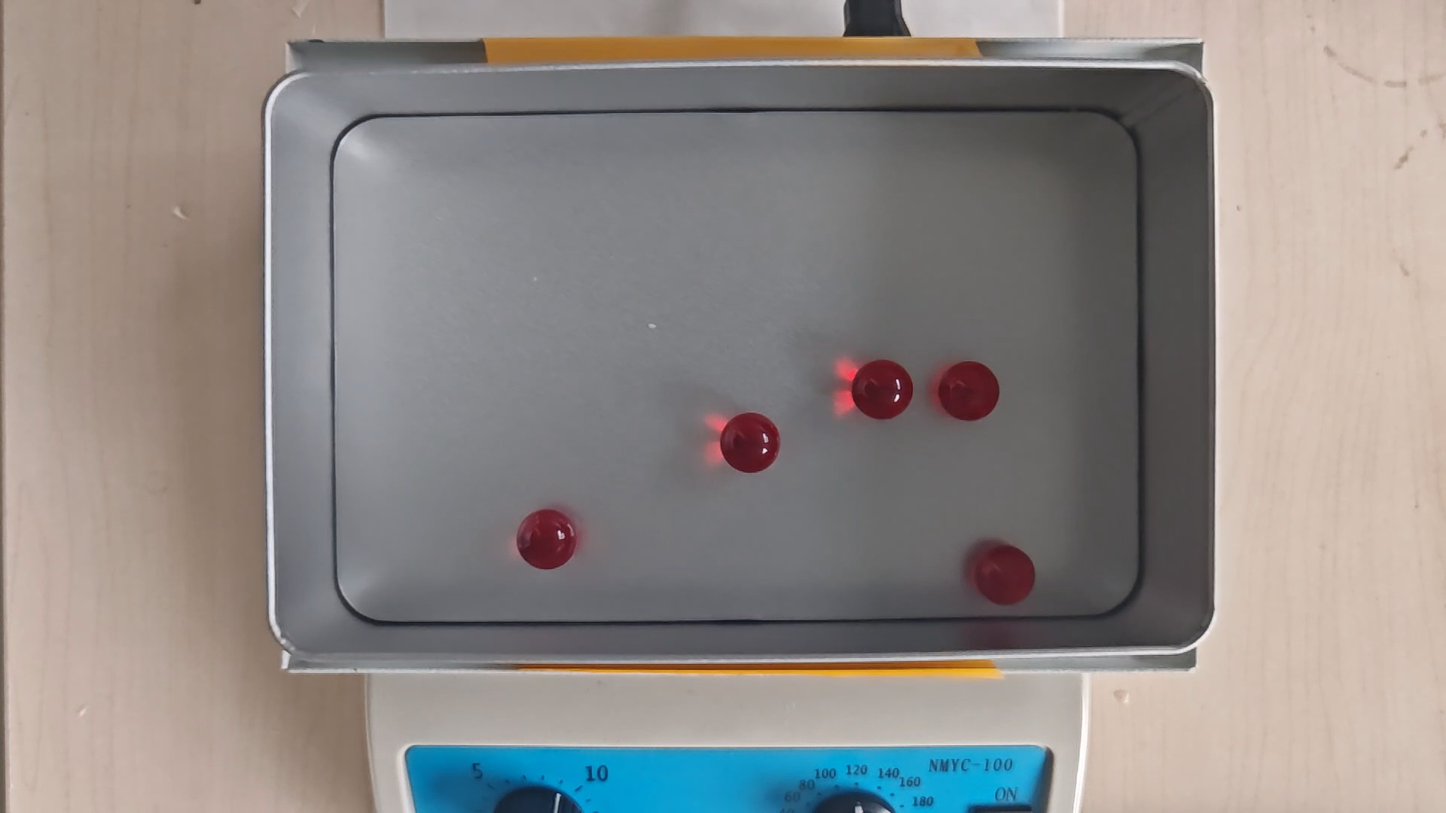ball: (718, 411, 782, 474), (851, 358, 913, 422), (938, 361, 999, 423), (516, 507, 576, 570), (976, 544, 1036, 606)
container: (331, 111, 1141, 620)
